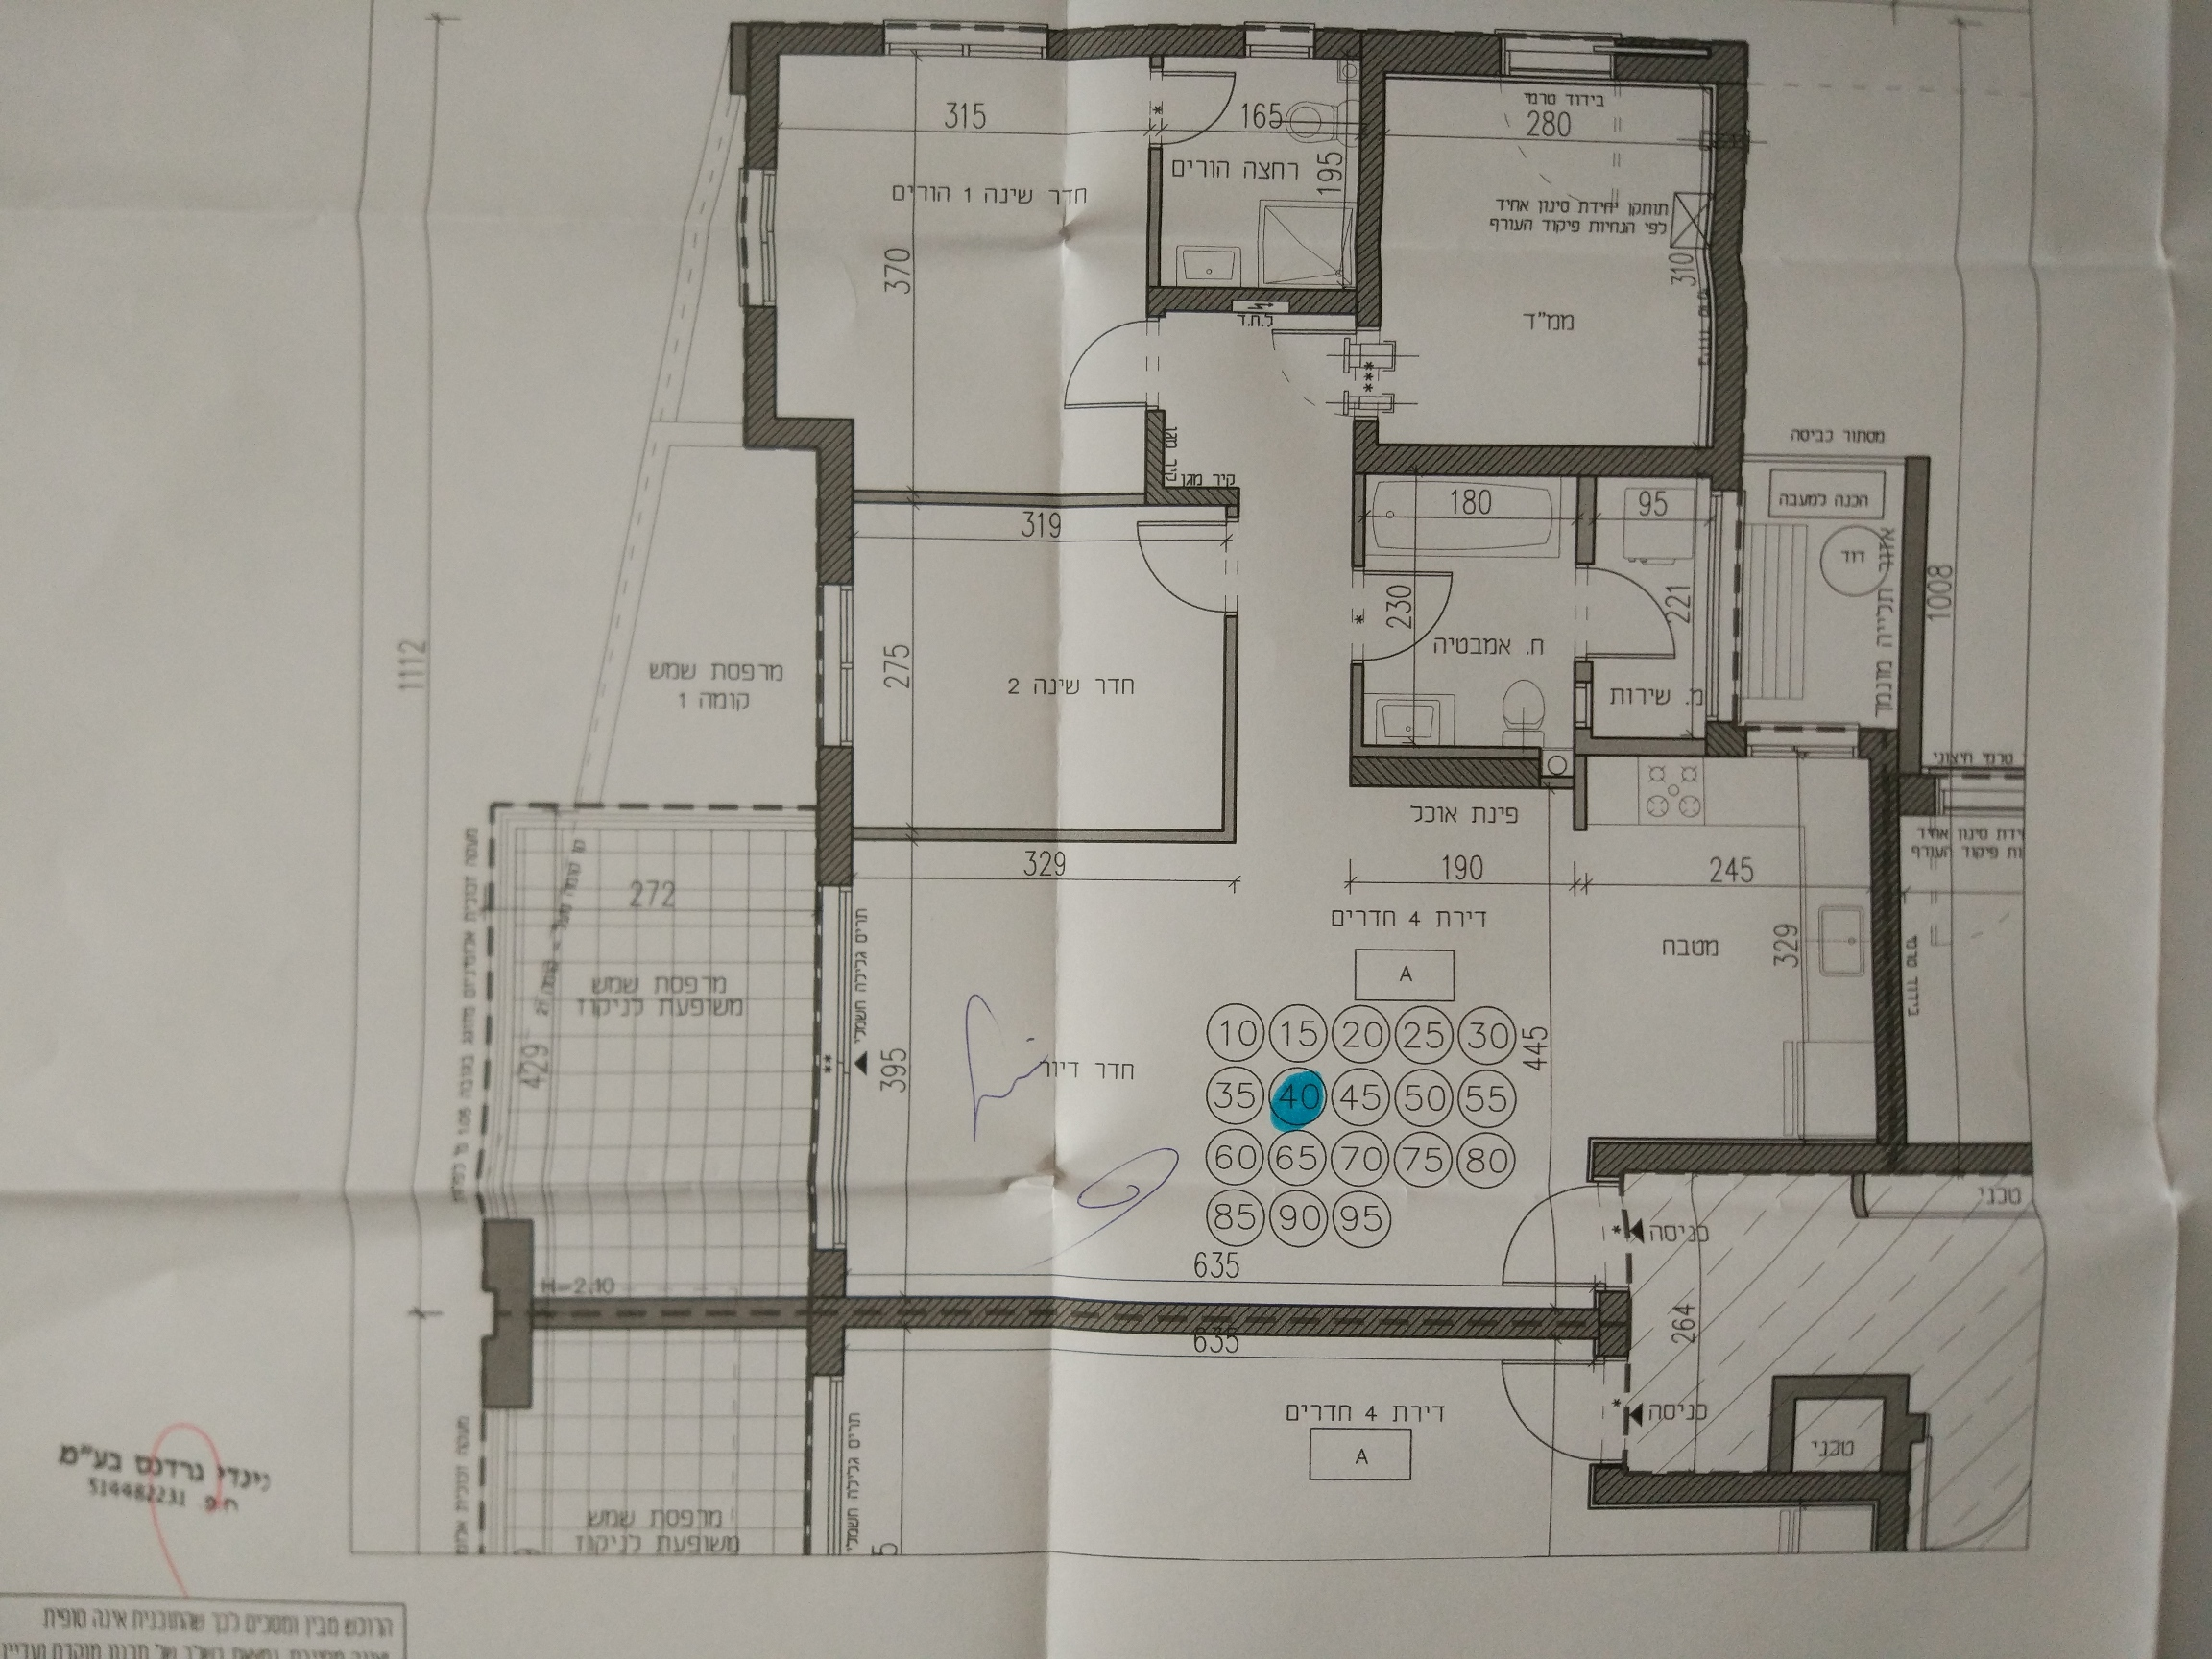door: (1489, 1171, 1674, 1295), (1120, 512, 1282, 615), (1031, 317, 1195, 408), (1564, 565, 1689, 666), (1343, 565, 1468, 666), (1501, 1361, 1623, 1464), (1137, 70, 1238, 150)
wall: (838, 1293, 1575, 1344), (742, 317, 859, 570), (1867, 755, 1914, 1136), (822, 749, 852, 878)
window: (810, 880, 862, 1249), (730, 160, 789, 305), (890, 10, 1043, 54)
